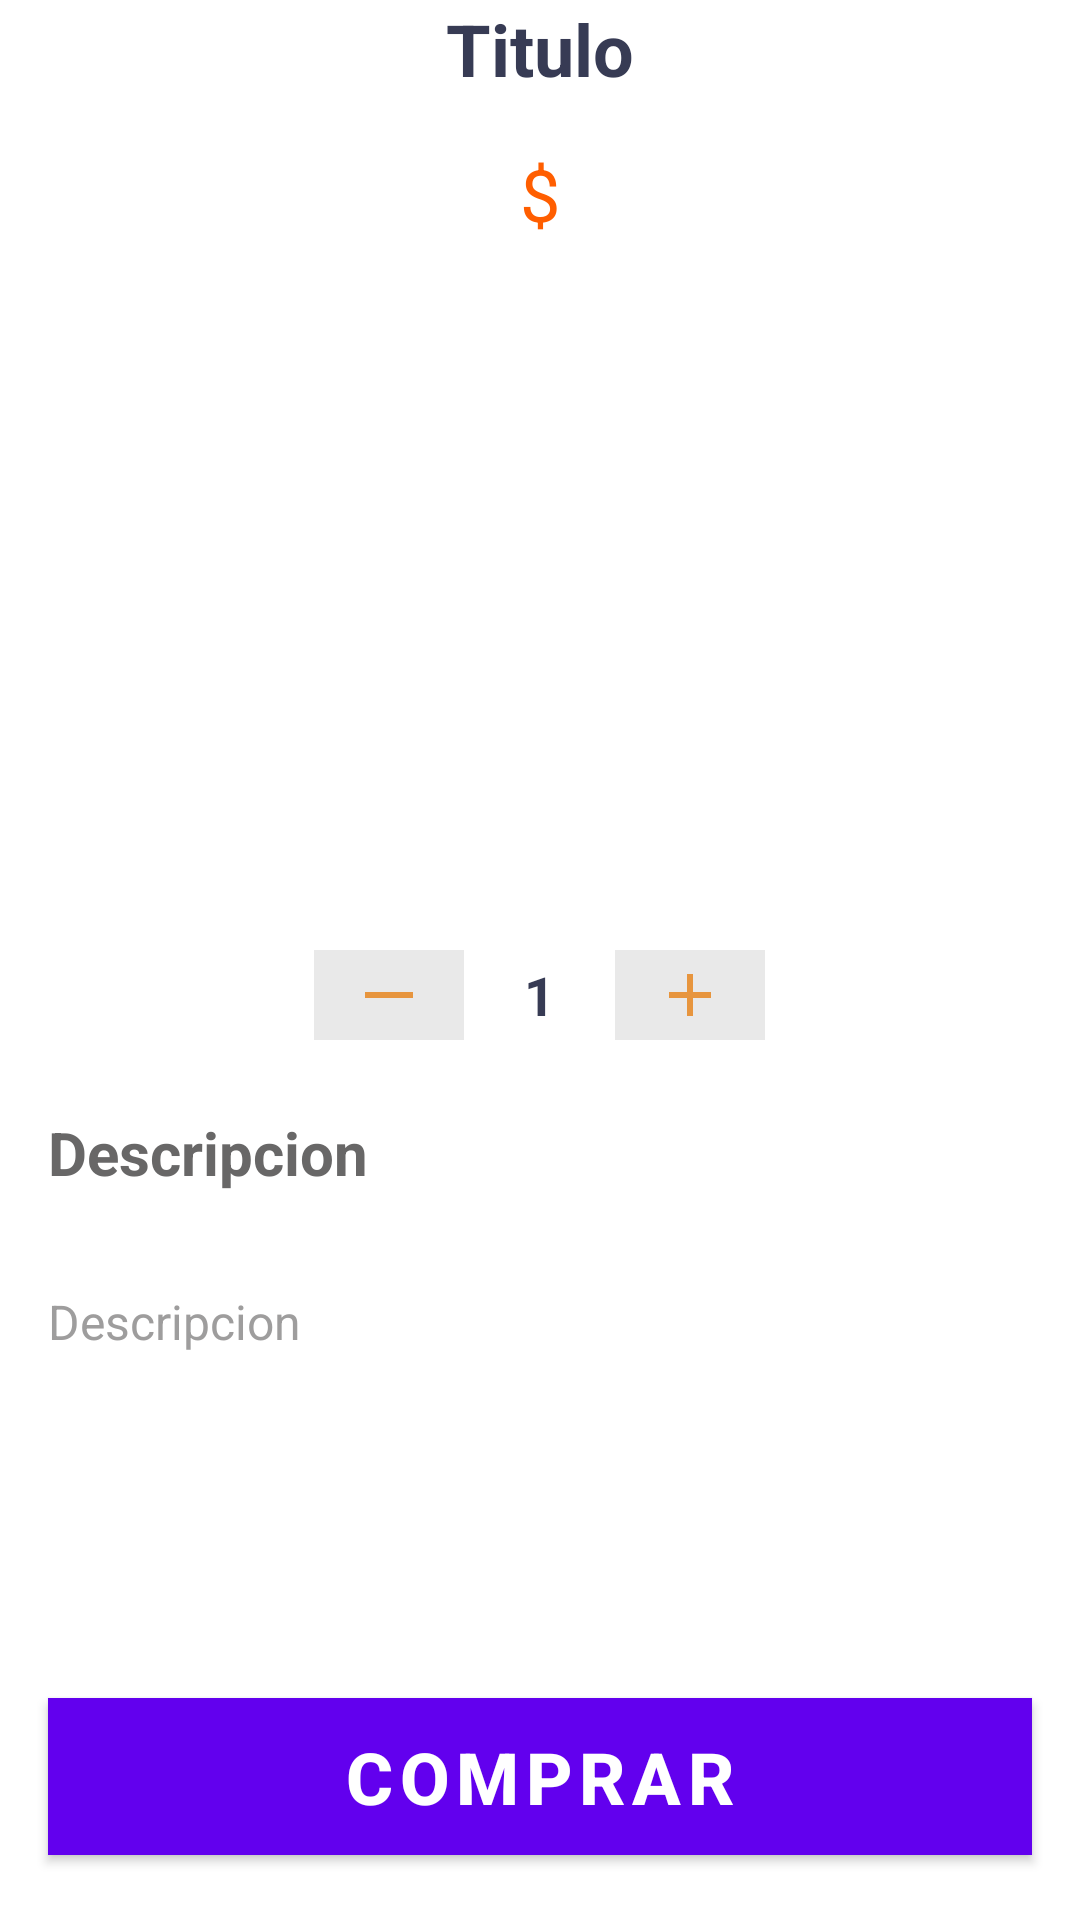

Icons on this 1080w x 1920h Android screen, each with the point to tap as (x,y):
add: (690,995)
